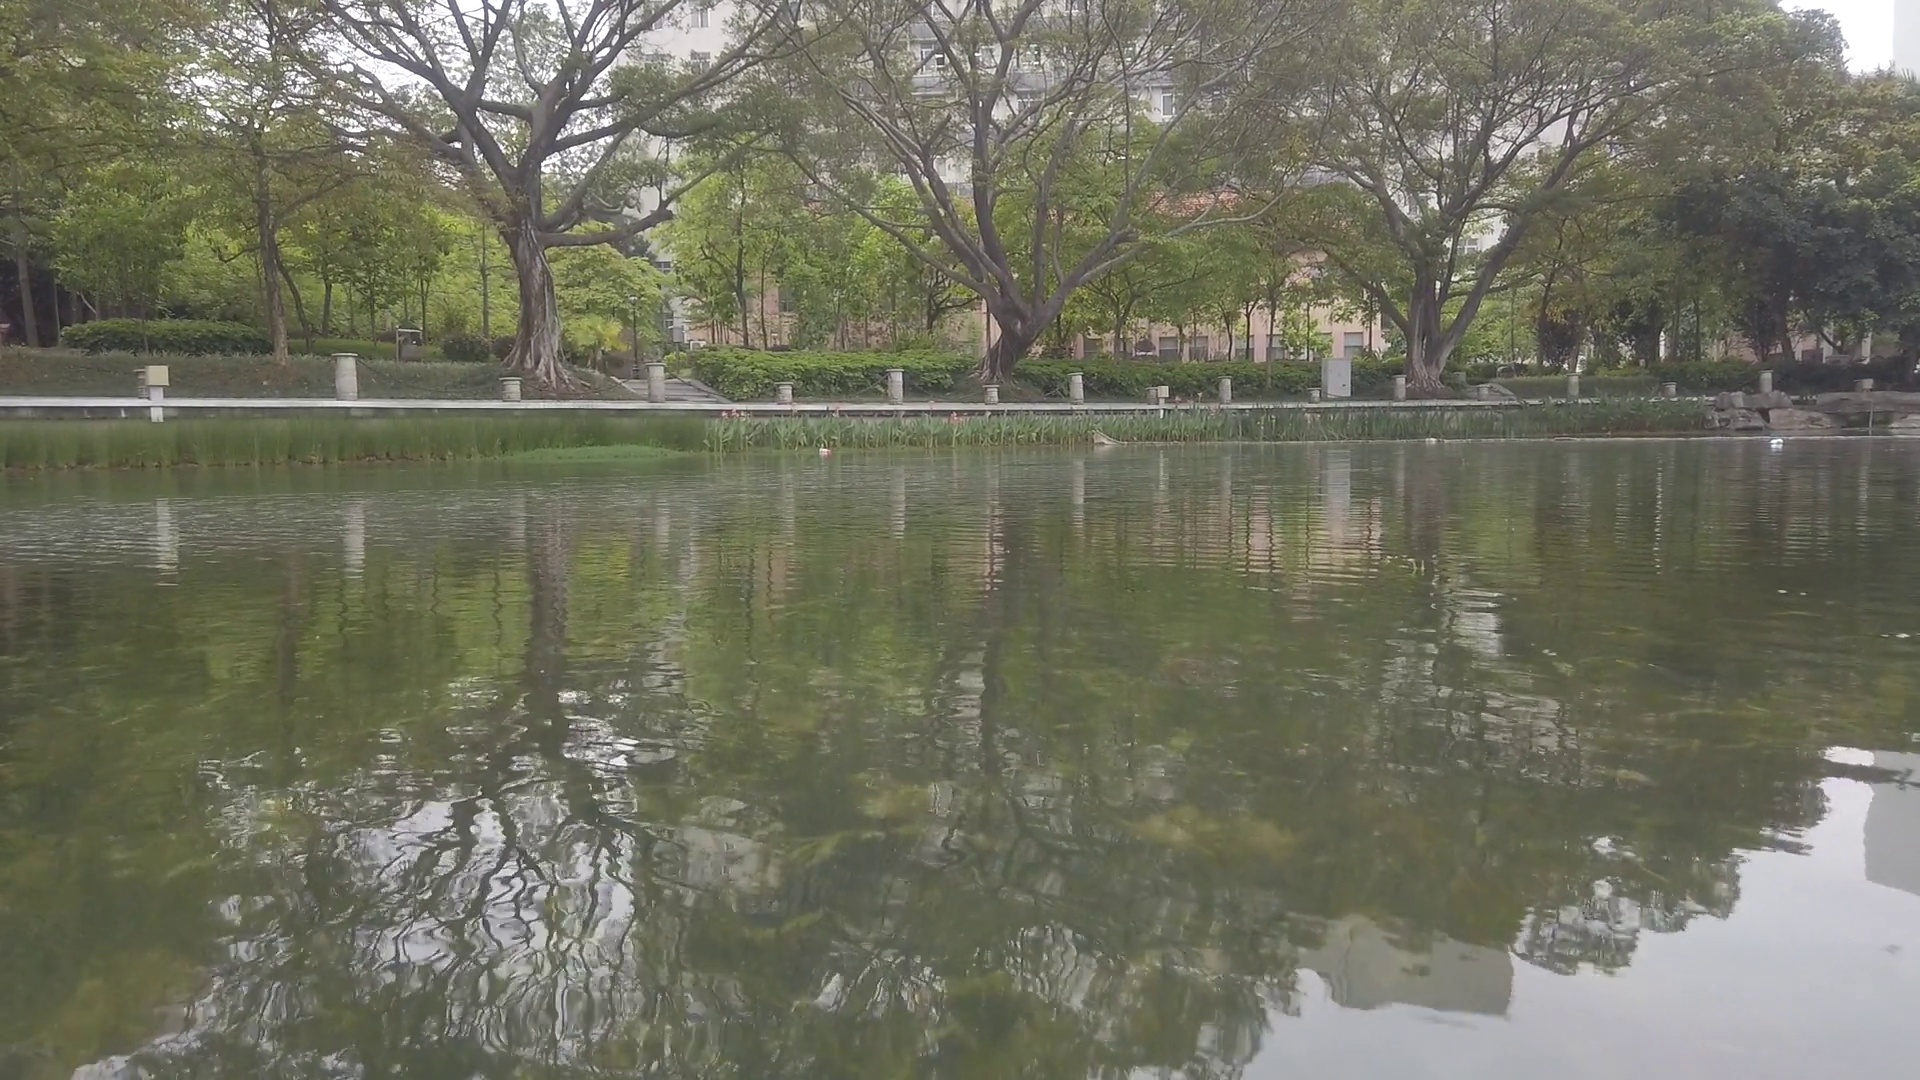bottle: (819, 447, 833, 455), (1425, 438, 1440, 444), (1768, 439, 1782, 446)
